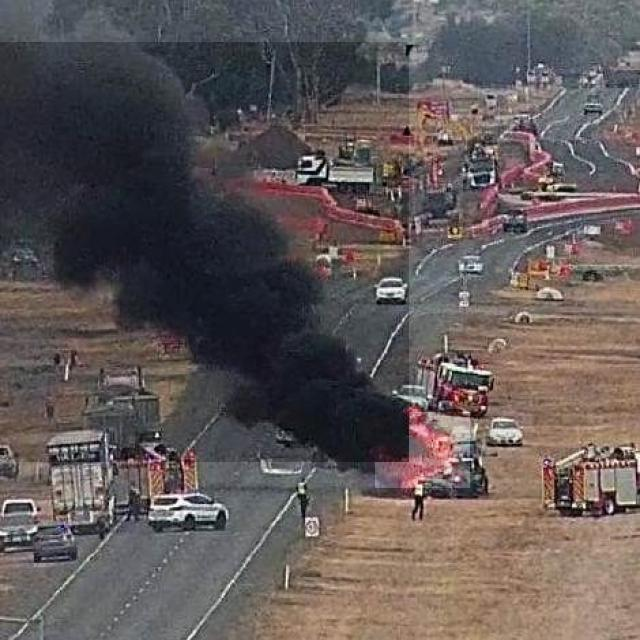Fire: (375, 412, 470, 488)
Smoke: (0, 42, 409, 462)
